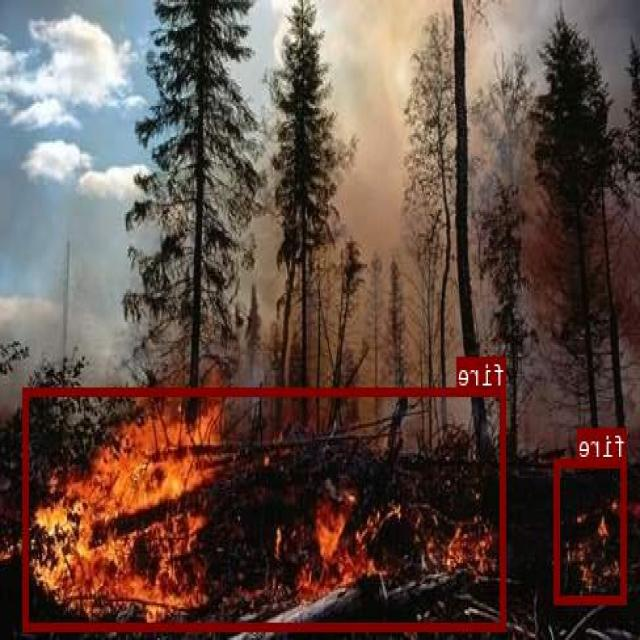fire: (25, 386, 507, 629), (555, 458, 628, 602)
